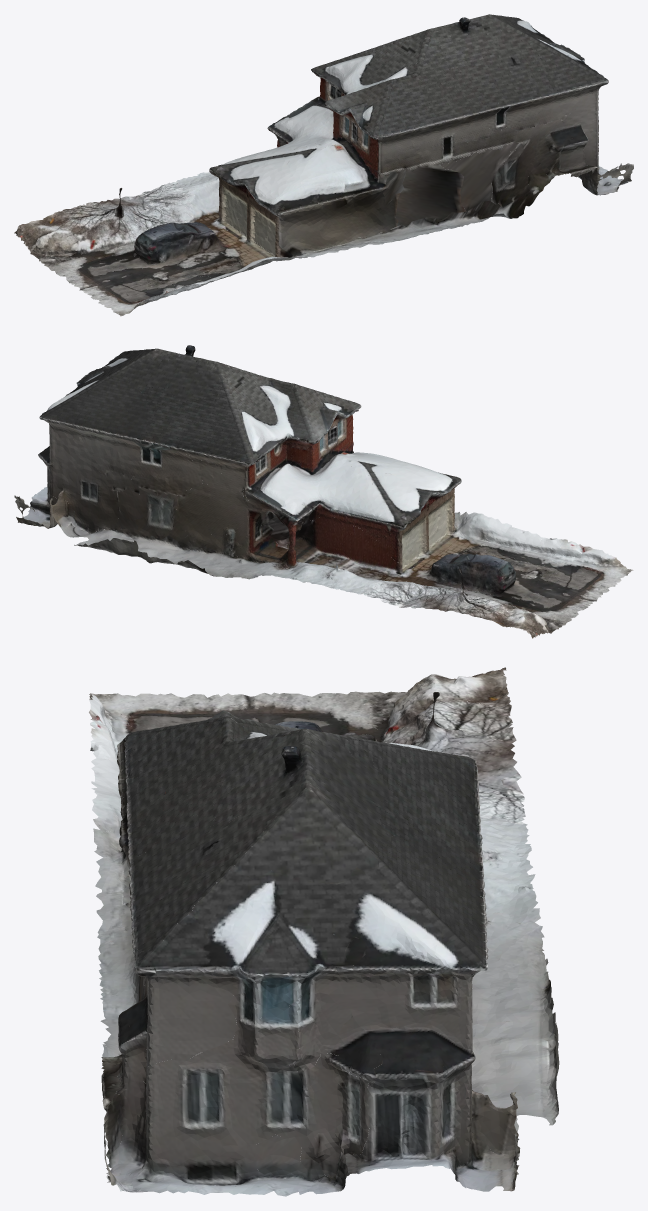
3 renders of one model, top to bottom at view 1: azimuth 30°, elevation 25°; view 2: azimuth 150°, elevation 25°; view 3: azimuth 270°, elevation 25°, orthographic. The views are drawn at different scales.
Parts seen in each view (by area): view 1: scene_mesh_textured_2; view 2: scene_mesh_textured_2; view 3: scene_mesh_textured_2.
Boxes of the visible parts, x1,y1,x2,y2 form: scene_mesh_textured_2: [14, 14, 633, 316]; scene_mesh_textured_2: [14, 345, 633, 638]; scene_mesh_textured_2: [89, 667, 559, 1196].
Bounding box in the file's own units: 31.15 × 9.85 × 12.21.
Materials: 3 (3 with a texture image).
